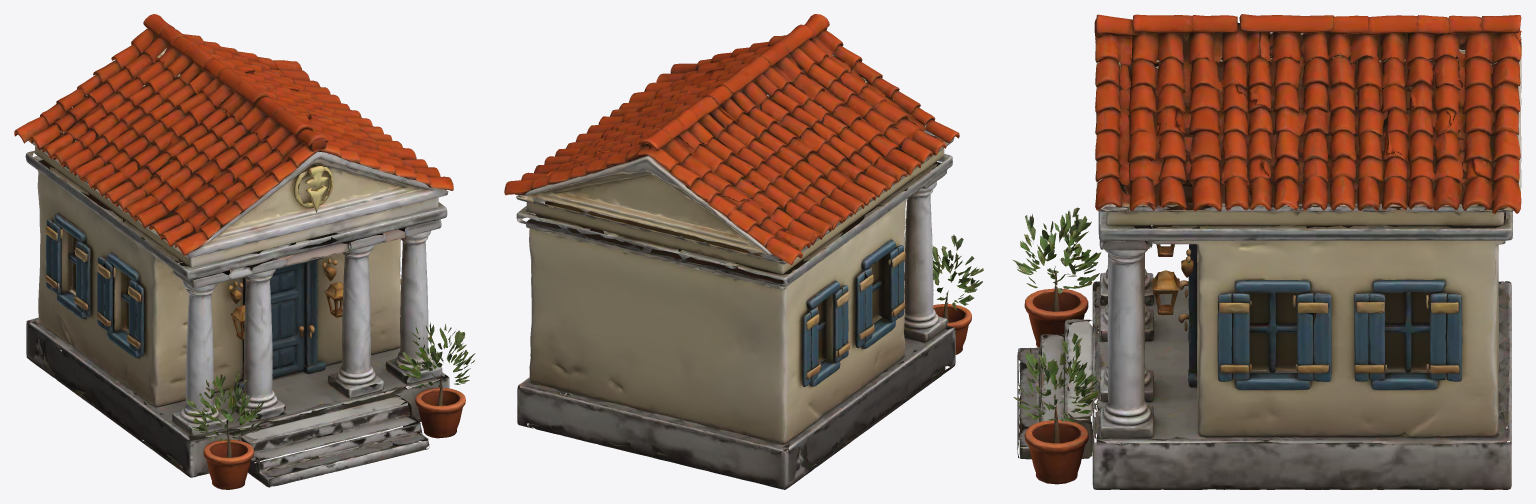
Rendered from home1.glb.
The picture shows the model from 3 angles, left to right: view 1: azimuth 30°, elevation 25°; view 2: azimuth 150°, elevation 25°; view 3: azimuth 270°, elevation 25°; orthographic projection. The views are drawn at different scales.
Visible parts, largest first — view 1: geometry_0; view 2: geometry_0; view 3: geometry_0.
Part boxes in pixels (x1=…): geometry_0: x1=14, y1=14, x2=475, y2=489; geometry_0: x1=504, y1=14, x2=983, y2=489; geometry_0: x1=1013, y1=14, x2=1521, y2=489.
Size of the model in its own units: 0.8043 by 0.8496 by 0.9921.
Materials: 1 (1 with a texture image).
